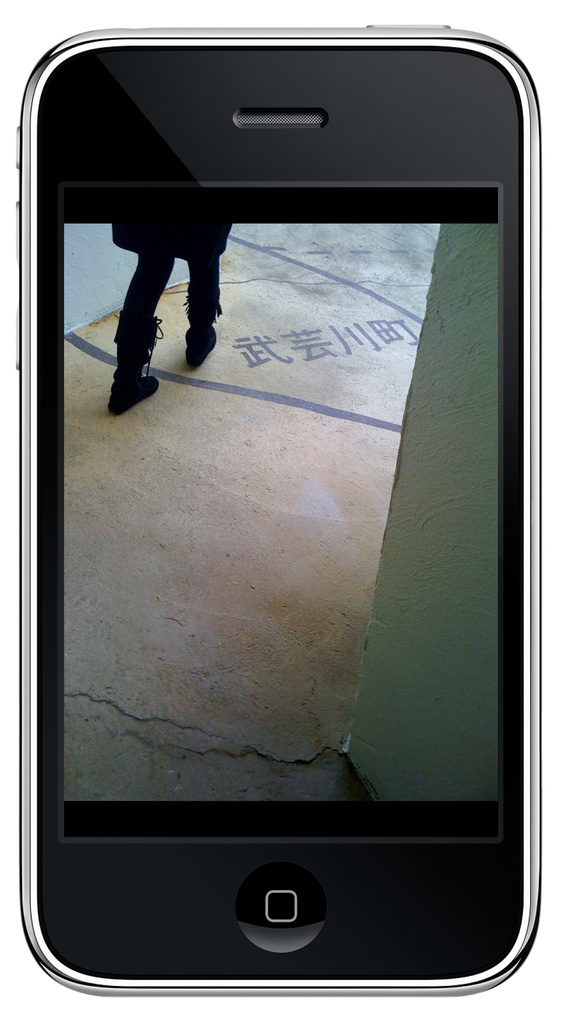Mobile-phone: (17, 22, 542, 996)
